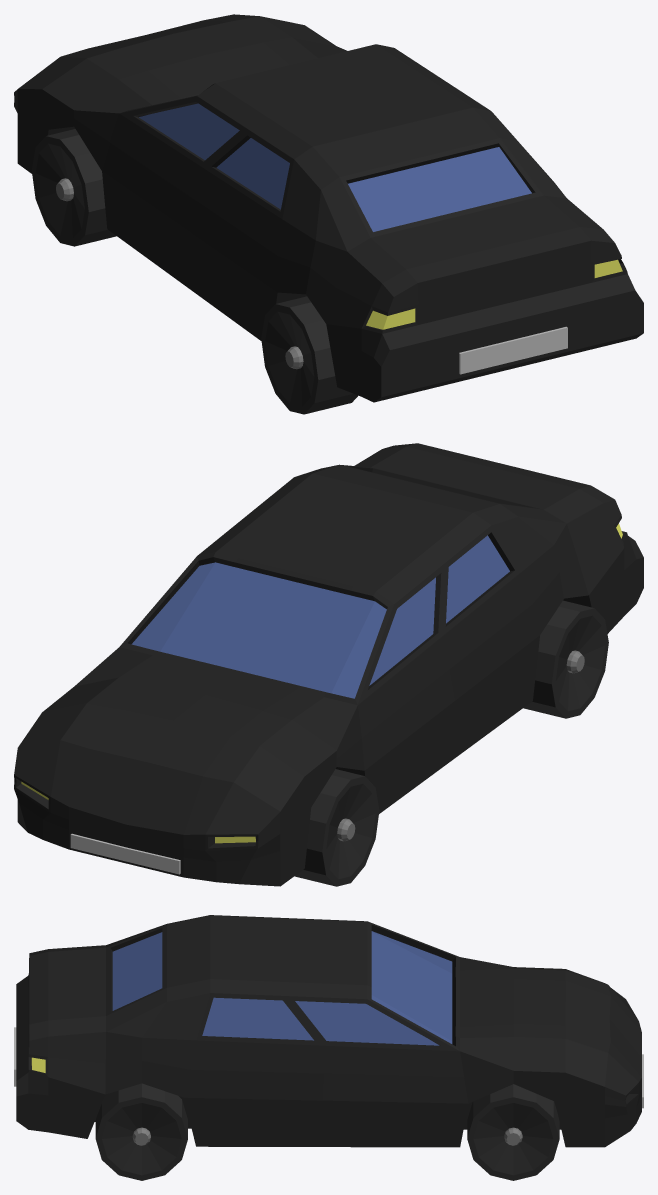
Rendered from CarBlack.fbx.
3 renders of one model, top to bottom at view 1: azimuth 30°, elevation 25°; view 2: azimuth 150°, elevation 25°; view 3: azimuth 270°, elevation 25°, orthographic. The views are drawn at different scales.
Visible parts, largest first — view 1: Car1.003; view 2: Car1.003; view 3: Car1.003.
Part boxes in pixels (<box>): Car1.003: <box>14,14,643,414</box>; Car1.003: <box>14,443,643,886</box>; Car1.003: <box>14,915,643,1180</box>.
Size of the model in its own units: 125 by 89.14 by 289.
